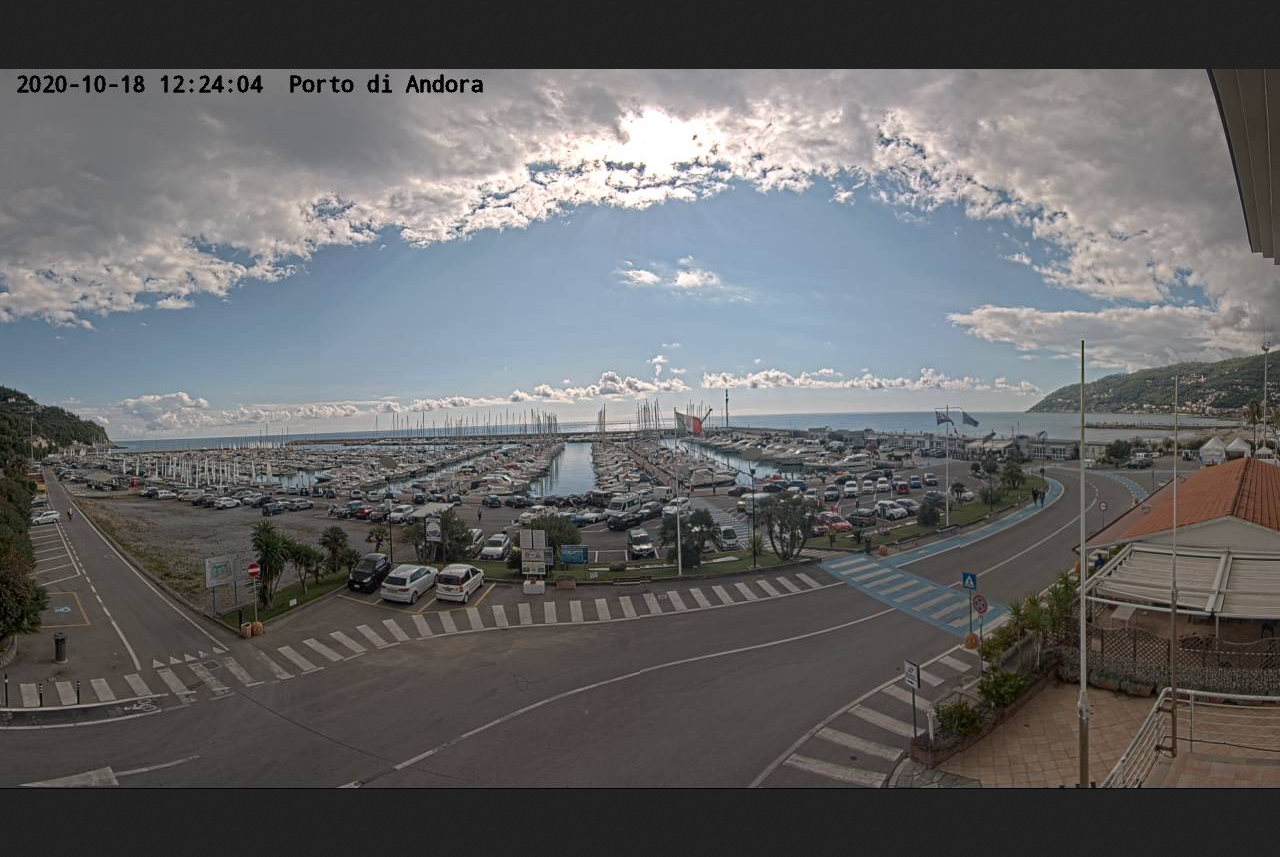yes: (674, 411, 704, 438), (935, 405, 954, 425), (960, 408, 978, 428)
